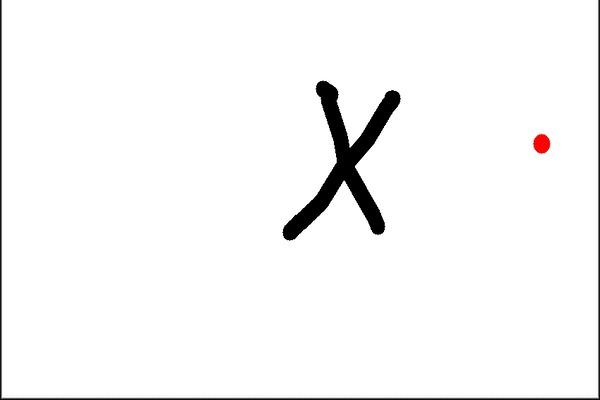X: (269, 67, 415, 266)
